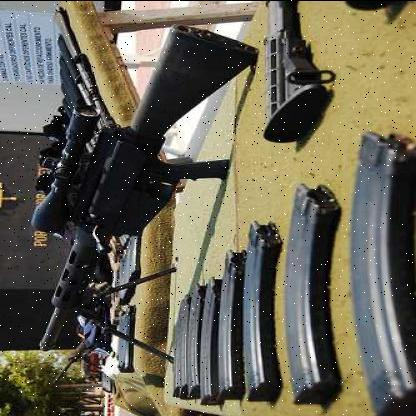rifle: (9, 17, 265, 359)
